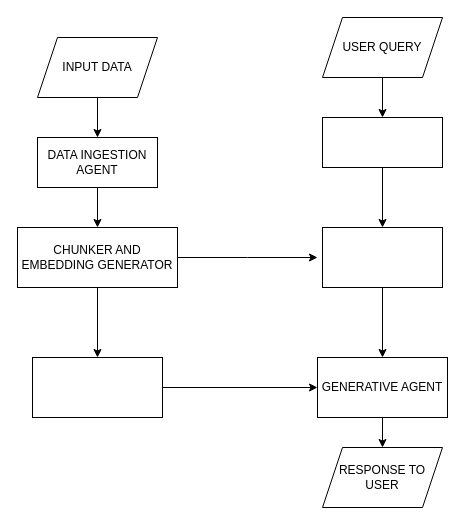
This 465x525 diagram has some shape labels left out. The centre of each missing label's shape, as x and y in pixels:
QUERY AGENT: the point at 382,142
RETRIEVAL AGENT: the point at 382,257
STORED EMBEDDINGS IN CHROMADB: the point at 97,387
